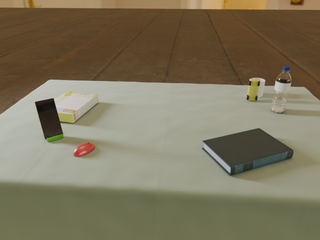book: (202, 128, 293, 176)
bottle: (271, 66, 291, 113)
box: (37, 92, 98, 123)
cup: (252, 78, 265, 97)
mouse: (73, 142, 95, 157)
phone: (35, 98, 63, 139)
toy_car: (247, 79, 260, 101)
